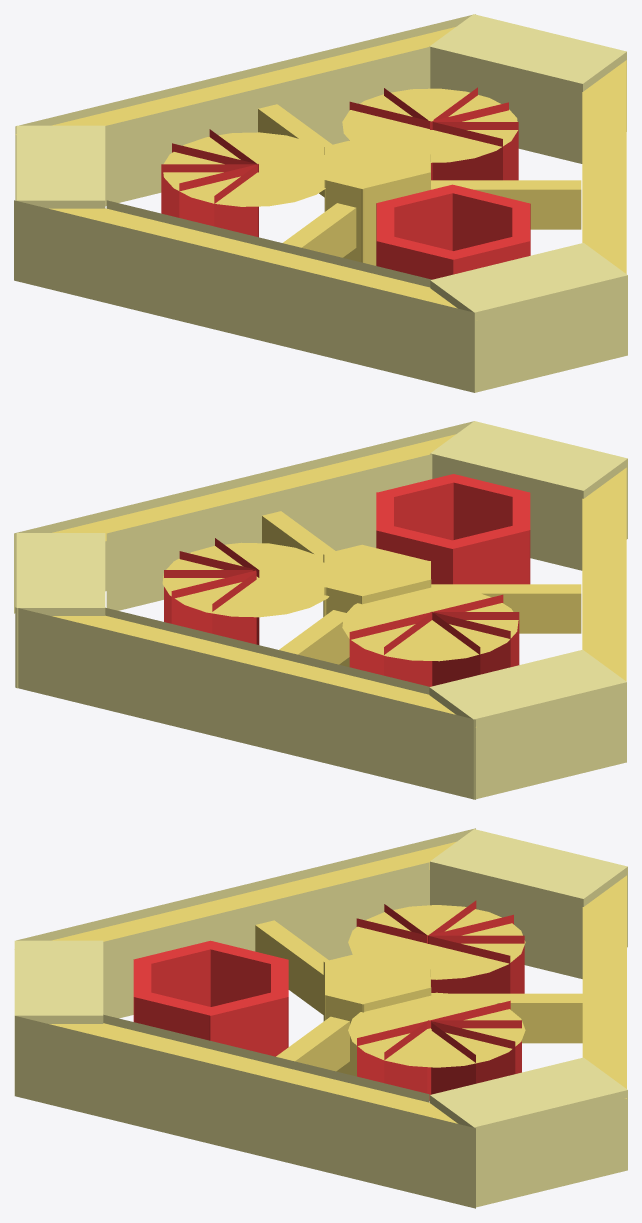
Rendered from newph.glb.
3 views of the same model, one above another, from view 1: azimuth 30°, elevation 25°; view 2: azimuth 150°, elevation 25°; view 3: azimuth 270°, elevation 25° (orthographic).
Parts seen in each view (by area): view 1: Plane (×14), Cube (×17), Disc (×2); view 2: Plane (×16), Cube (×16), Disc (×2); view 3: Plane (×15), Cube (×17), Disc (×2).
Part boxes in pixels (x1,y1,x2,y2): Plane (×14): (14,14,626,392); Cube (×17): (16,14,627,392); Disc (×2): (163,88,517,206); Plane (×16): (14,421,626,799); Cube (×16): (16,421,627,799); Disc (×2): (162,542,518,661); Plane (×15): (15,828,626,1208); Cube (×17): (14,829,627,1207); Disc (×2): (348,905,525,1067).
Size of the model in its own units: 8 by 1 by 6.92.
